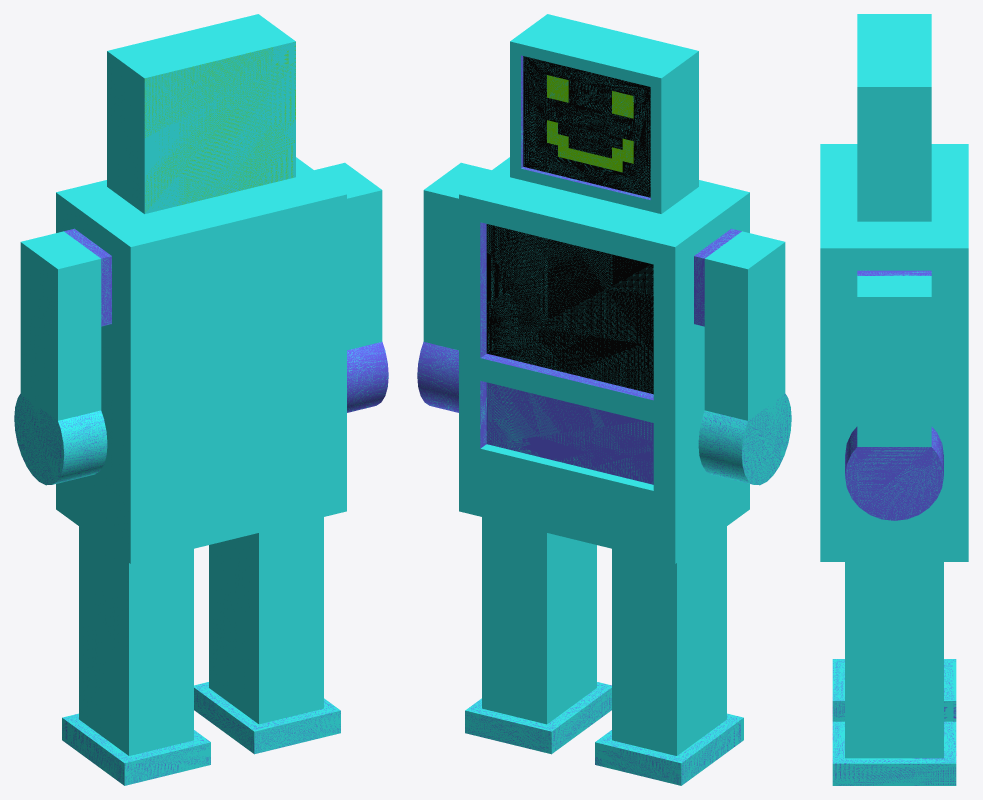
Rendered from Kevin.dae.
3 renders of one model, left to right at view 1: azimuth 30°, elevation 25°; view 2: azimuth 150°, elevation 25°; view 3: azimuth 270°, elevation 25°, orthographic.
Parts seen in each view (by area): view 1: SketchUp (×12); view 2: SketchUp (×18); view 3: SketchUp (×8).
Part boxes in pixels (x1,y1,x2,y2): SketchUp (×12): [14, 14, 388, 785]; SketchUp (×18): [417, 14, 791, 785]; SketchUp (×8): [820, 14, 968, 785].
Size of the model in its own units: 5.91 by 2.36 by 12.01.
